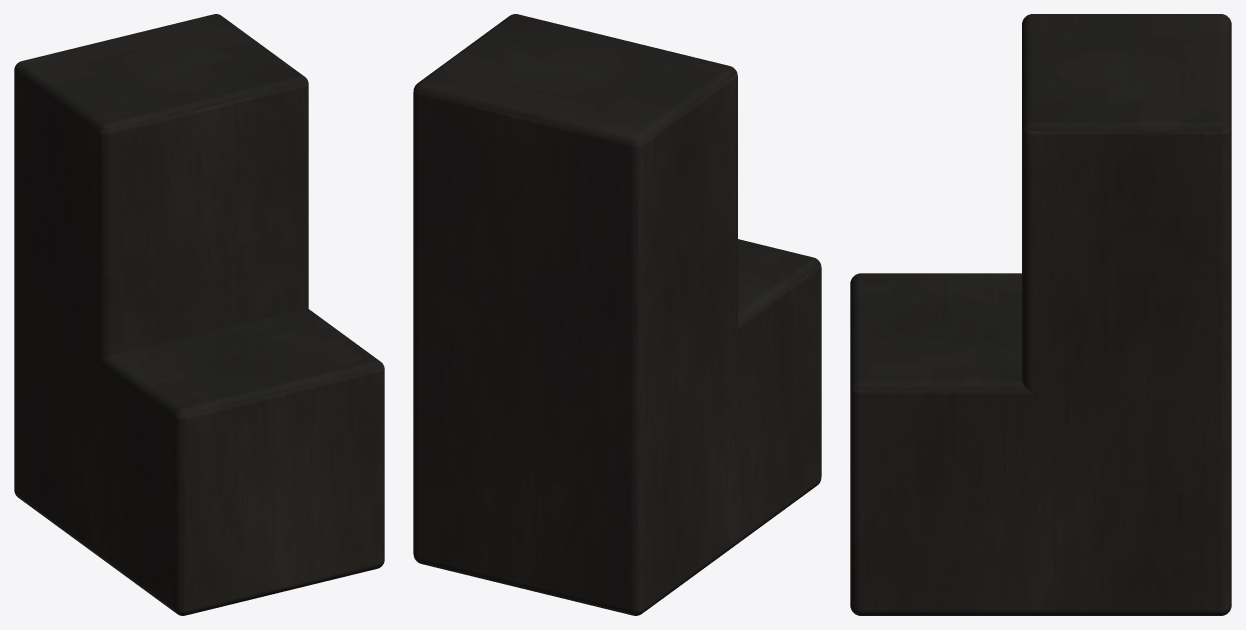
The model's file is knight-black.glb.
3 renders of one model, left to right at view 1: azimuth 30°, elevation 25°; view 2: azimuth 150°, elevation 25°; view 3: azimuth 270°, elevation 25°, orthographic. The views are drawn at different scales.
Visible parts, largest first — view 1: Rez_Jezdec_cerny; view 2: Rez_Jezdec_cerny; view 3: Rez_Jezdec_cerny.
Boxes of the visible parts, x1=… form: Rez_Jezdec_cerny: x1=14, y1=14, x2=384, y2=615; Rez_Jezdec_cerny: x1=413, y1=14, x2=821, y2=615; Rez_Jezdec_cerny: x1=850, y1=14, x2=1231, y2=615.
Size of the model in its own units: 0.4851 by 0.97 by 0.679.
2 materials, 2 textured.
